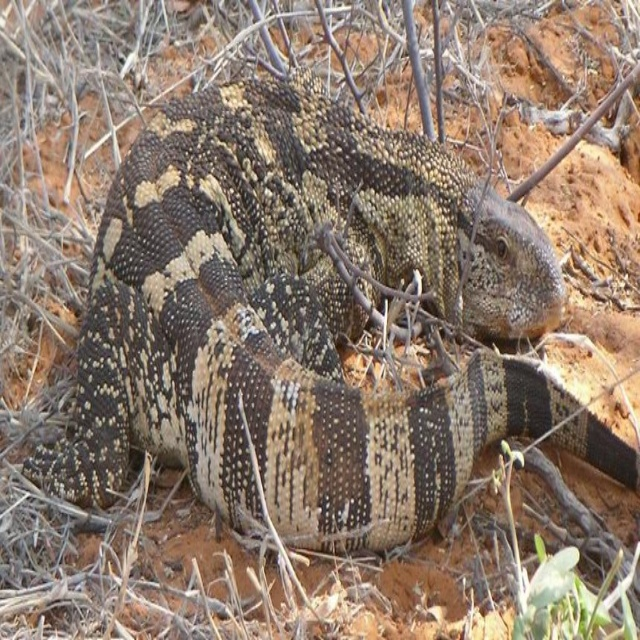Lizard: (23, 67, 640, 552)
